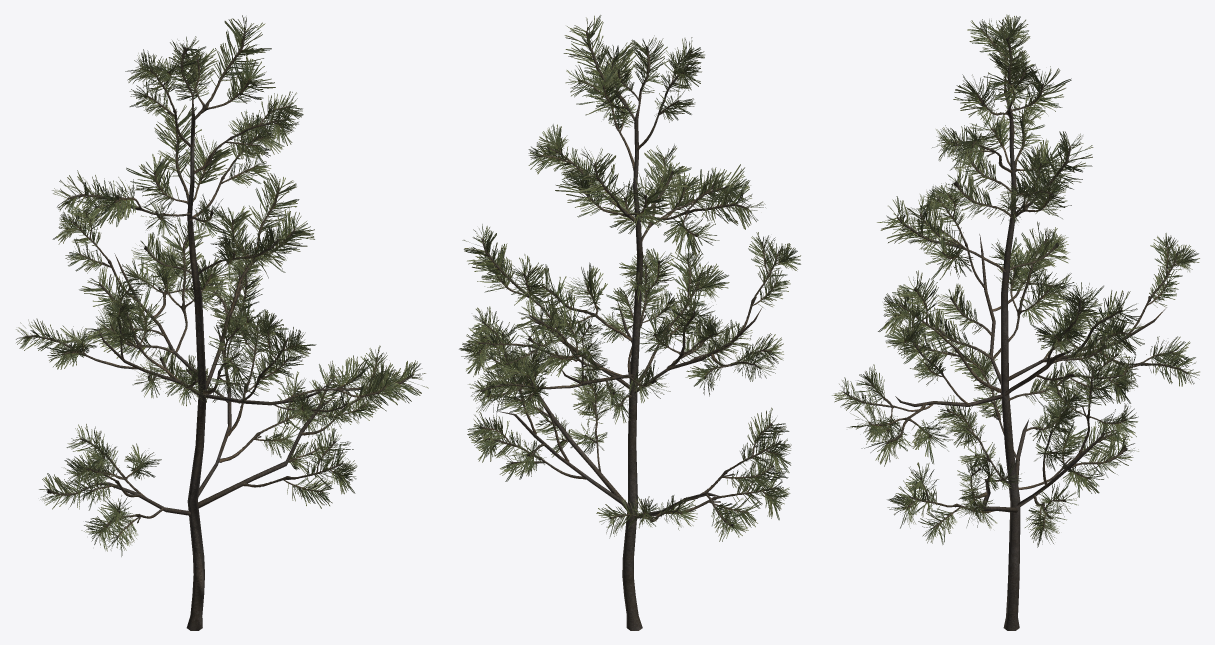
3 views of the same model, side by side, from view 1: azimuth 30°, elevation 25°; view 2: azimuth 150°, elevation 25°; view 3: azimuth 270°, elevation 25° (orthographic).
Visible parts, largest first — view 1: pine_sapling_small_a; view 2: pine_sapling_small_a; view 3: pine_sapling_small_a.
Boxes of the visible parts, left/top/right/bottom form: pine_sapling_small_a: left=16, top=15, right=428, bottom=630; pine_sapling_small_a: left=459, top=15, right=800, bottom=630; pine_sapling_small_a: left=832, top=14, right=1199, bottom=630.
Size of the model in its own units: 0.7877 by 1.3 by 0.7274.
2 materials, 2 textured.
